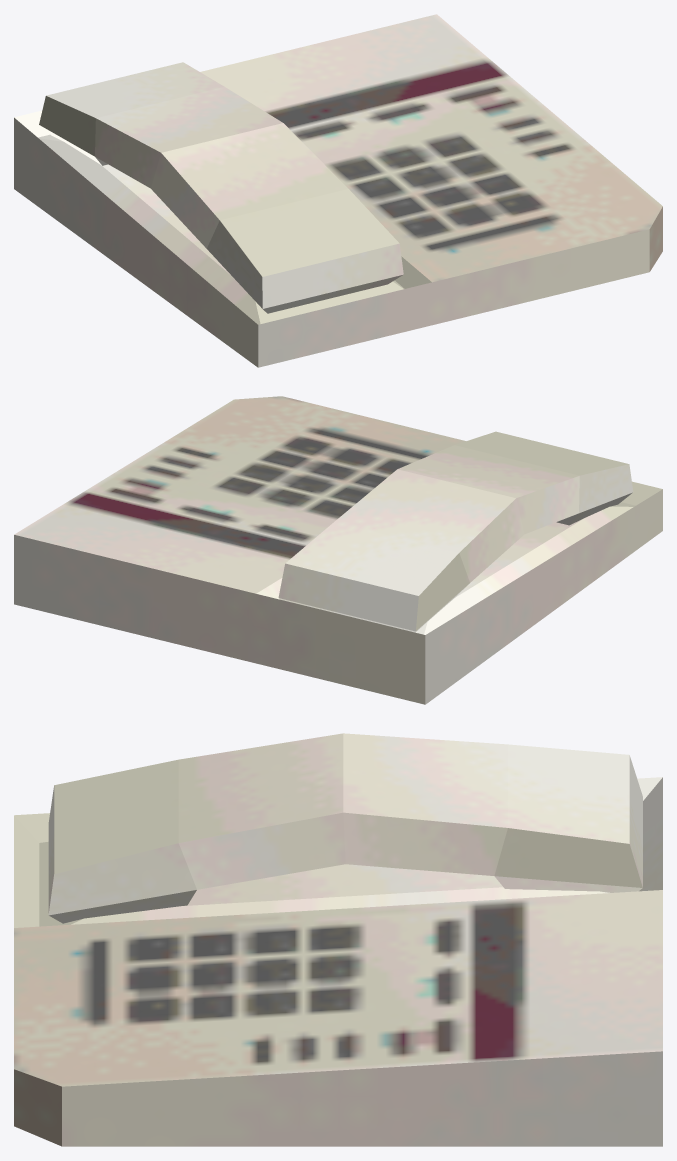
File: desk_phone.obj
The picture shows the model from 3 angles, top to bottom: view 1: azimuth 30°, elevation 25°; view 2: azimuth 150°, elevation 25°; view 3: azimuth 270°, elevation 25°; orthographic projection. The views are drawn at different scales.
Parts seen in each view (by area): view 1: desk_phone; view 2: desk_phone; view 3: desk_phone.
Boxes of the visible parts, bbox=[...] form: desk_phone: bbox=[14, 14, 662, 367]; desk_phone: bbox=[14, 396, 662, 704]; desk_phone: bbox=[14, 733, 662, 1146].
Size of the model in its own units: 0.3328 by 0.0885 by 0.3328.
